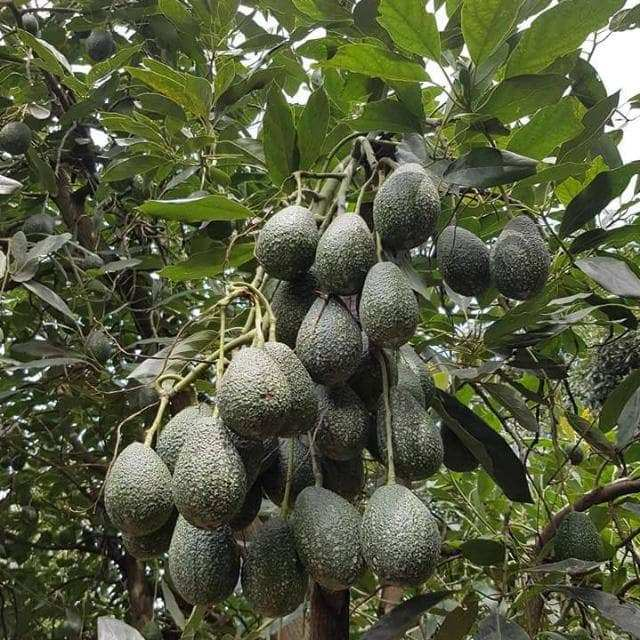unfit_avocado: (353, 476, 450, 585), (96, 444, 185, 544), (371, 382, 450, 478), (175, 424, 248, 525), (220, 343, 300, 432), (348, 254, 427, 343), (252, 199, 323, 284)
